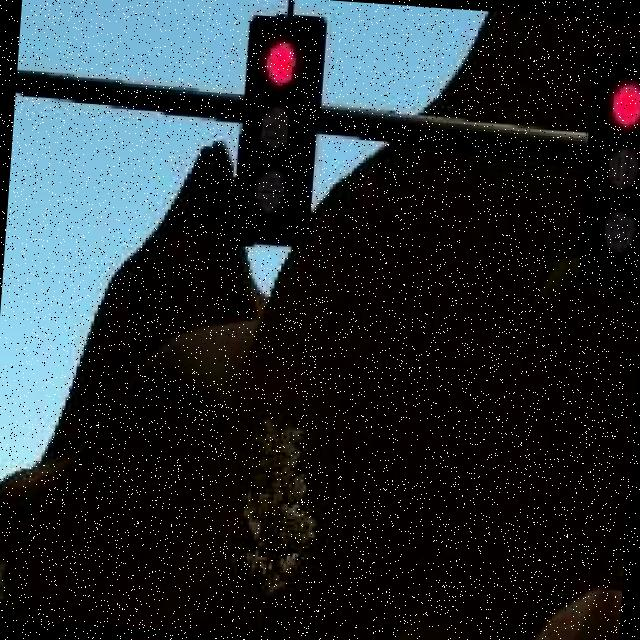Czerwone swiatlo: (233, 14, 324, 248), (580, 67, 640, 288)
